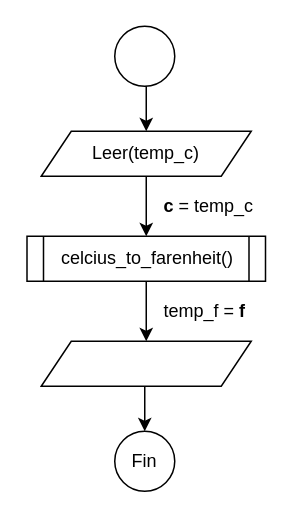
Image size: 306x518. Some labels were removed from this diagram. Each missing label, with the centre of its shape:
"Escribir(temp_f)" belongs at [145,363].
"Inicio" belongs at [144,55].
